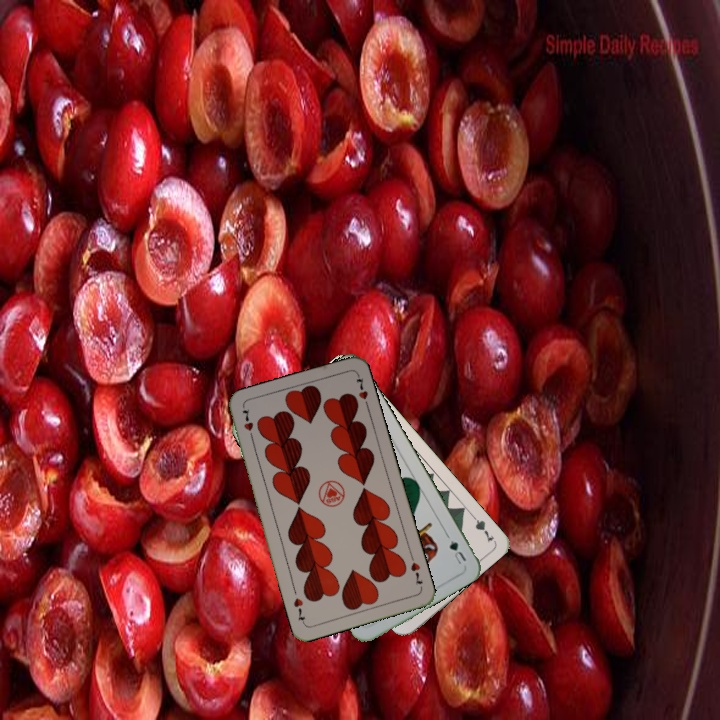G7: (466, 509, 497, 545)
GU: (443, 531, 469, 567)
H7: (238, 405, 257, 444), (407, 551, 425, 588)
